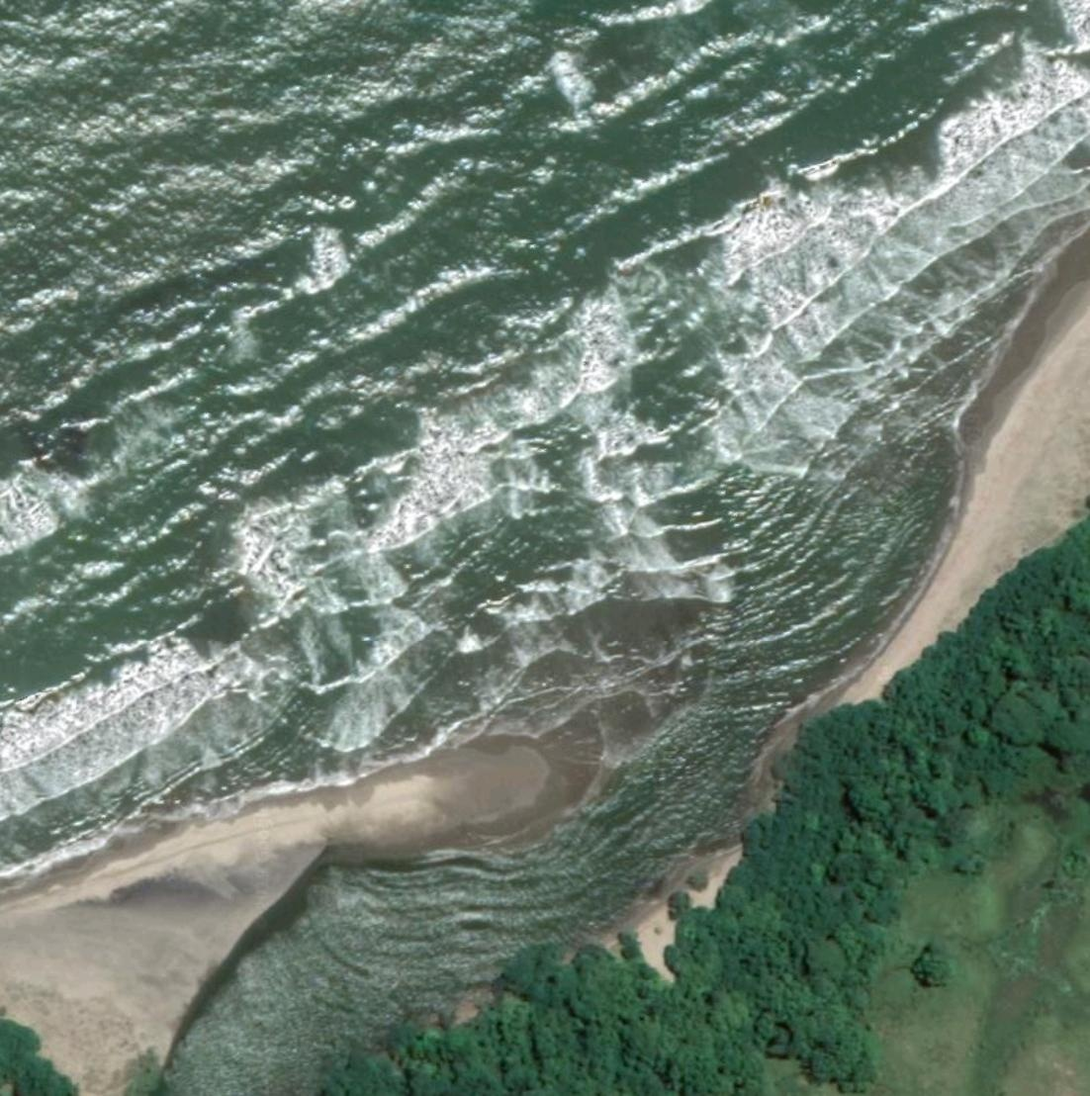rip_current: (534, 221, 778, 534)
